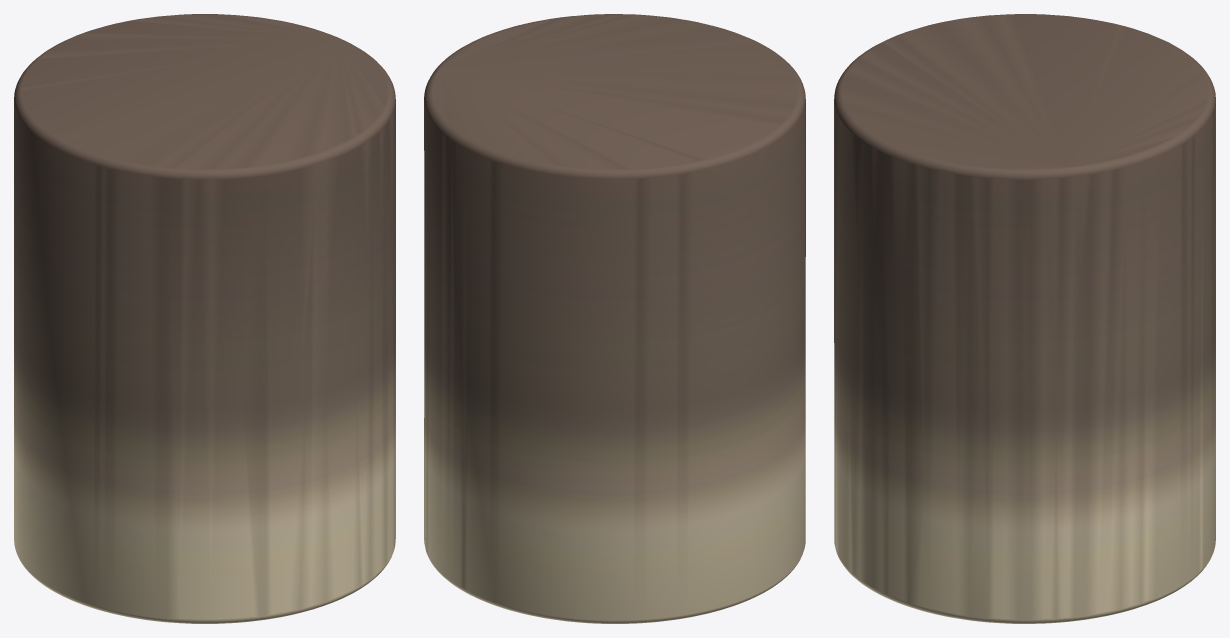
The model's file is monolith_vez_cerny.glb.
3 views of the same model, side by side, from view 1: azimuth 30°, elevation 25°; view 2: azimuth 150°, elevation 25°; view 3: azimuth 270°, elevation 25° (orthographic).
Parts seen in each view (by area): view 1: MONOLITH Věž – Kouř (černý); view 2: MONOLITH Věž – Kouř (černý); view 3: MONOLITH Věž – Kouř (černý).
Boxes of the visible parts, x1=… form: MONOLITH Věž – Kouř (černý): x1=14, y1=14, x2=395, y2=623; MONOLITH Věž – Kouř (černý): x1=424, y1=14, x2=805, y2=623; MONOLITH Věž – Kouř (černý): x1=834, y1=14, x2=1215, y2=623.
Size of the model in its own units: 0.032 by 0.042 by 0.032.
Materials: 1 (1 with a texture image).
